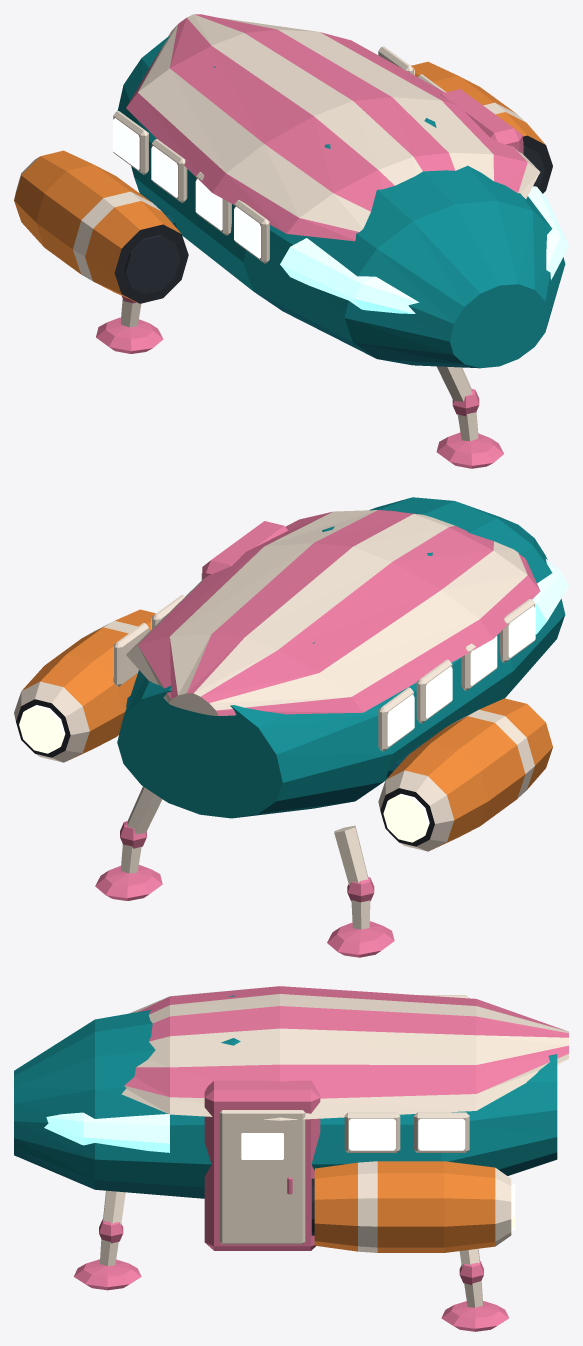
File: cor-p_gelandet.glb
The picture shows the model from 3 angles, top to bottom: view 1: azimuth 30°, elevation 25°; view 2: azimuth 150°, elevation 25°; view 3: azimuth 270°, elevation 25°; orthographic projection. The views are drawn at different scales.
Parts seen in each view (by area): view 1: muschelpaneele, rumpf, triebwerk_r, fenster, panoramafenster, landebein_1, triebwerk_l, landebein_3, türmodul; view 2: muschelpaneele, rumpf, triebwerk_r, triebwerk_l, fenster, landebein_3, landebein_2, türmodul, panoramafenster; view 3: muschelpaneele, rumpf, triebwerk_l, tür, türmodul, fenster, panoramafenster, landebein_1, landebein_2.
Boxes of the visible parts, x1,y1,x2,y2 form: muschelpaneele: (126,14,540,241); rumpf: (117,36,565,368); triebwerk_r: (14,150,188,303); fenster: (113,46,446,263); panoramafenster: (280,186,568,313); landebein_1: (436,366,503,468); triebwerk_l: (411,61,552,193); landebein_3: (96,296,163,353); türmodul: (440,89,522,153); muschelpaneele: (126,510,540,715); rumpf: (117,497,565,818); triebwerk_r: (378,698,552,851); triebwerk_l: (14,609,155,762); fenster: (113,595,535,751); landebein_3: (327,825,394,957); landebein_2: (95,786,162,900); türmodul: (202,521,287,579); panoramafenster: (532,559,568,634); muschelpaneele: (121,986,568,1120); rumpf: (14,995,557,1198); triebwerk_l: (311,1161,515,1252); tür: (219,1110,305,1244); türmodul: (204,1080,320,1250); fenster: (344,995,469,1152); panoramafenster: (44,1112,169,1152); landebein_1: (73,1190,141,1290); landebein_2: (441,1248,508,1331).
Bounding box in the file's own units: 0.1025 × 0.064 × 0.12.
